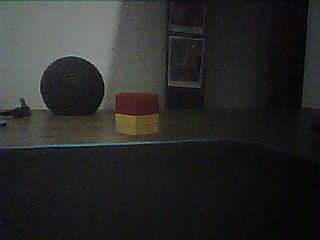lego: (115, 91, 160, 135)
